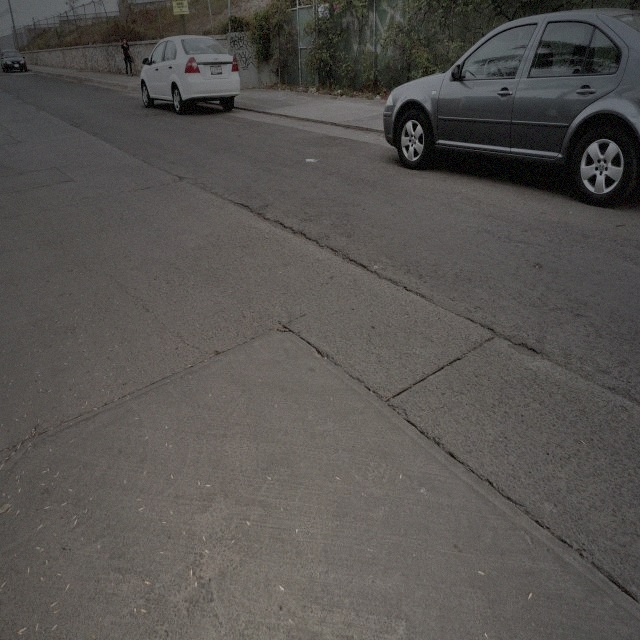pothole: (511, 338, 536, 361), (277, 320, 293, 334)
